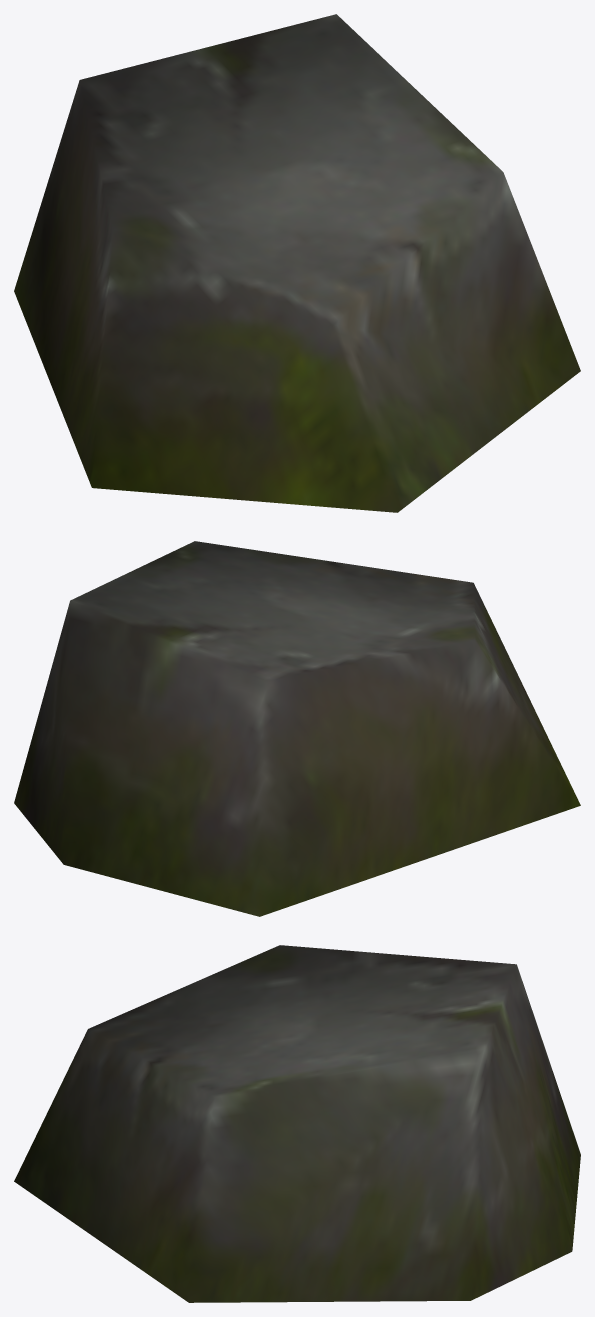
Rendered from common_yewai_shikuai02.FBX.
3 views of the same model, one above another, from view 1: azimuth 30°, elevation 25°; view 2: azimuth 150°, elevation 25°; view 3: azimuth 270°, elevation 25° (orthographic). The views are drawn at different scales.
Parts seen in each view (by area): view 1: common_yewai_shikuai02; view 2: common_yewai_shikuai02; view 3: common_yewai_shikuai02.
Boxes of the visible parts, x1,y1,x2,y2 form: common_yewai_shikuai02: (14, 14, 580, 512); common_yewai_shikuai02: (14, 541, 580, 916); common_yewai_shikuai02: (14, 945, 580, 1302).
Size of the model in its own units: 0.8927 by 0.443 by 1.03.
